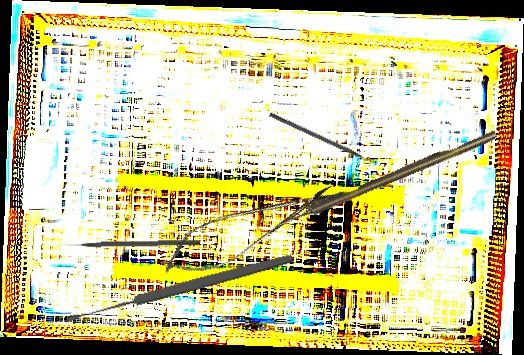Hook Surgical: (275, 129, 499, 229), (268, 111, 381, 169), (58, 238, 201, 249)
Micro Scissor: (152, 167, 344, 290)
Surgical Spoon: (66, 251, 294, 325)
